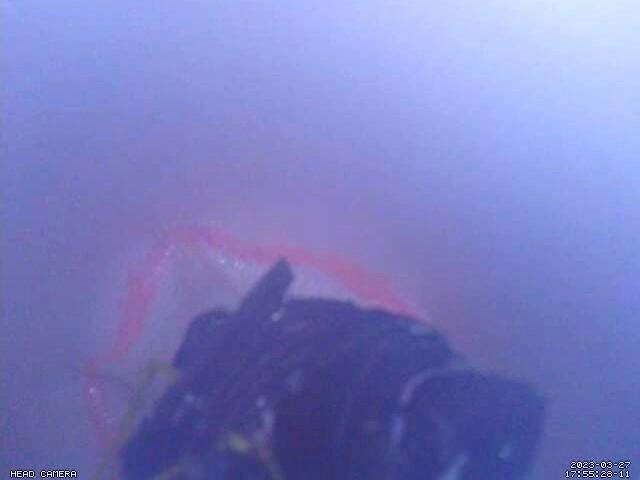head: (79, 222, 420, 448)
